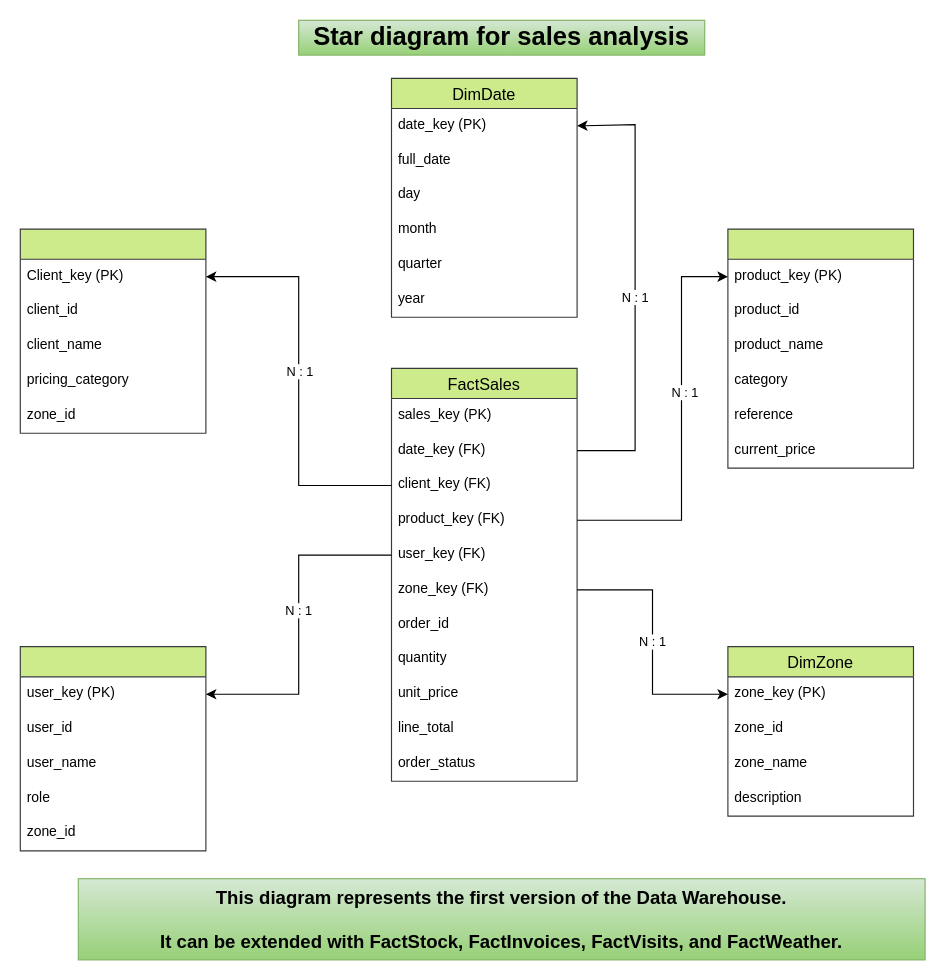
Some shapes in this 945 by 980 pixel diagram are drawn without their labels. Here are the shapes that lost their labels. From the top down, the box of each, then its label:
(19, 228, 206, 433): DimClient
(727, 228, 913, 468): DimProduct
(19, 646, 206, 851): DimUser
